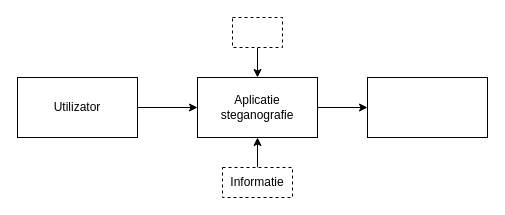
Some shapes in this 505 by 215 pixel diagram are drawn without their labels. Each missing label, with the centre of its shape:
Imagine/audio/text cu date ascunse: (427,107)
Suport: (257,32)
